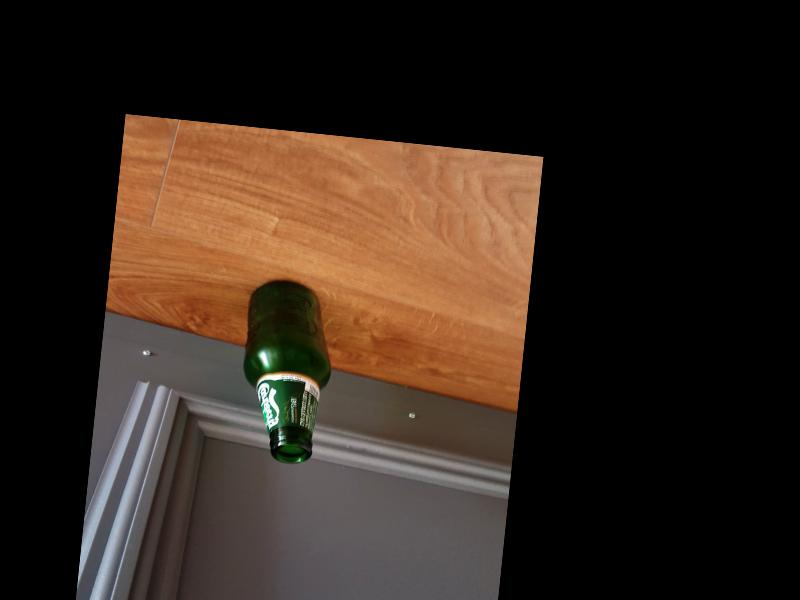Beer: (232, 276, 340, 466)
